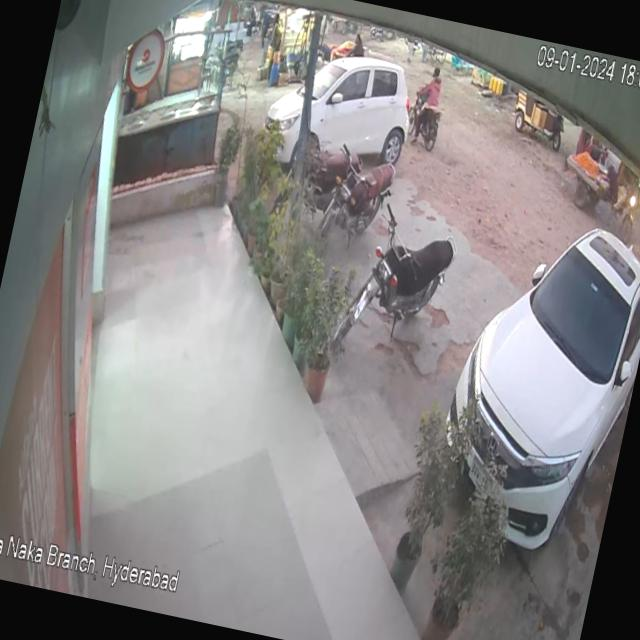Car: (417, 159, 640, 575), (238, 22, 428, 176)
Motorcycle: (330, 186, 474, 372), (321, 141, 405, 246)
